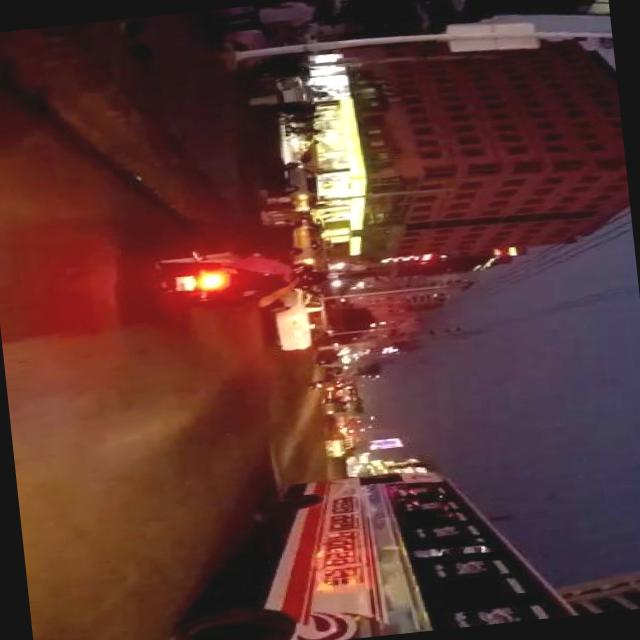bus: (152, 451, 576, 640)
car: (270, 284, 332, 352), (286, 215, 328, 267), (285, 156, 324, 212)
motorcycle: (132, 256, 255, 308), (326, 397, 352, 413), (306, 379, 326, 388)
truck: (325, 430, 355, 456)
